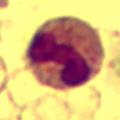monocyte: (26, 13, 105, 89)
